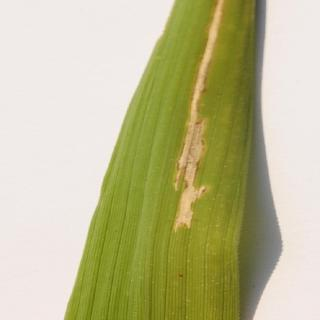Hawar-Daun: (168, 0, 224, 282)
